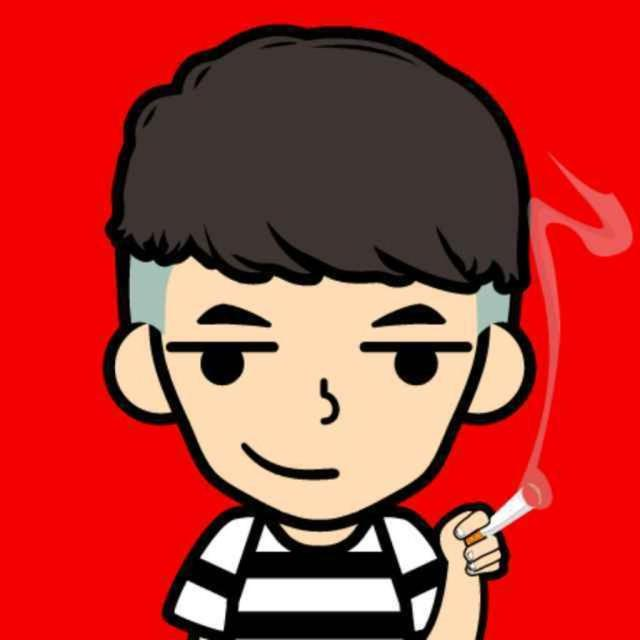smoking: (102, 57, 586, 595)
